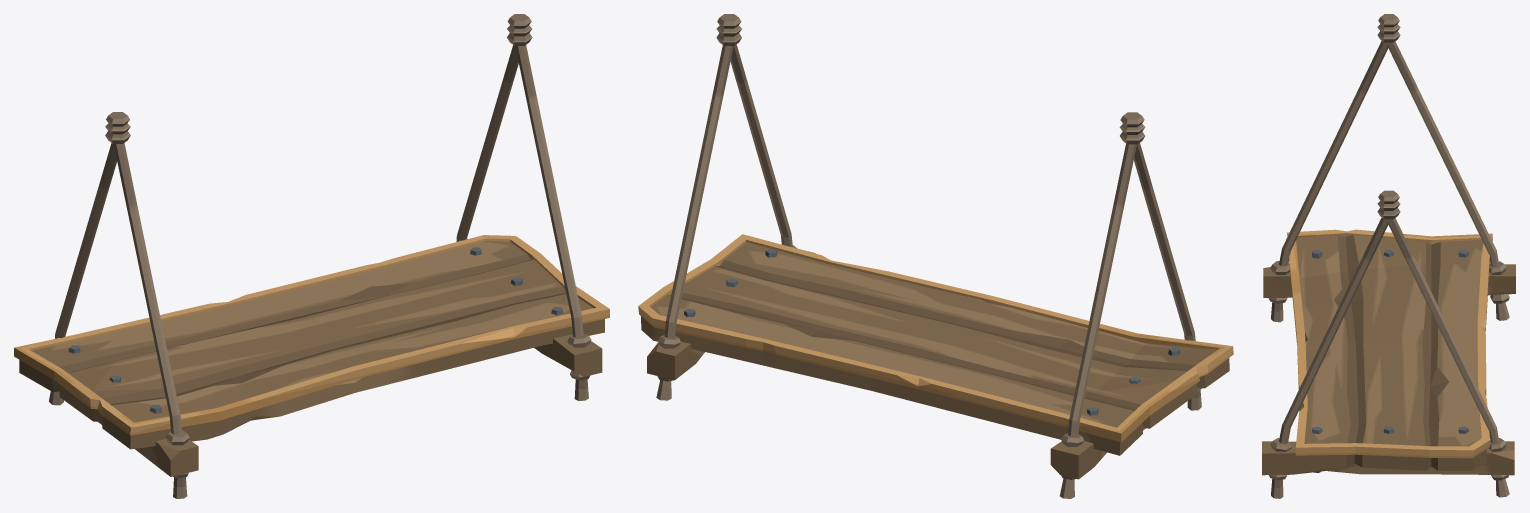
File: SM_Prop_Table_05.fbx
3 renders of one model, left to right at view 1: azimuth 30°, elevation 25°; view 2: azimuth 150°, elevation 25°; view 3: azimuth 270°, elevation 25°, orthographic. The views are drawn at different scales.
Visible parts, largest first — view 1: SM_Prop_Table_05; view 2: SM_Prop_Table_05; view 3: SM_Prop_Table_05.
Boxes of the visible parts, x1,y1,x2,y2 form: SM_Prop_Table_05: (14, 14, 609, 498); SM_Prop_Table_05: (638, 14, 1233, 498); SM_Prop_Table_05: (1262, 14, 1515, 498).
Bounding box in the file's own units: 241 × 158 × 120.
